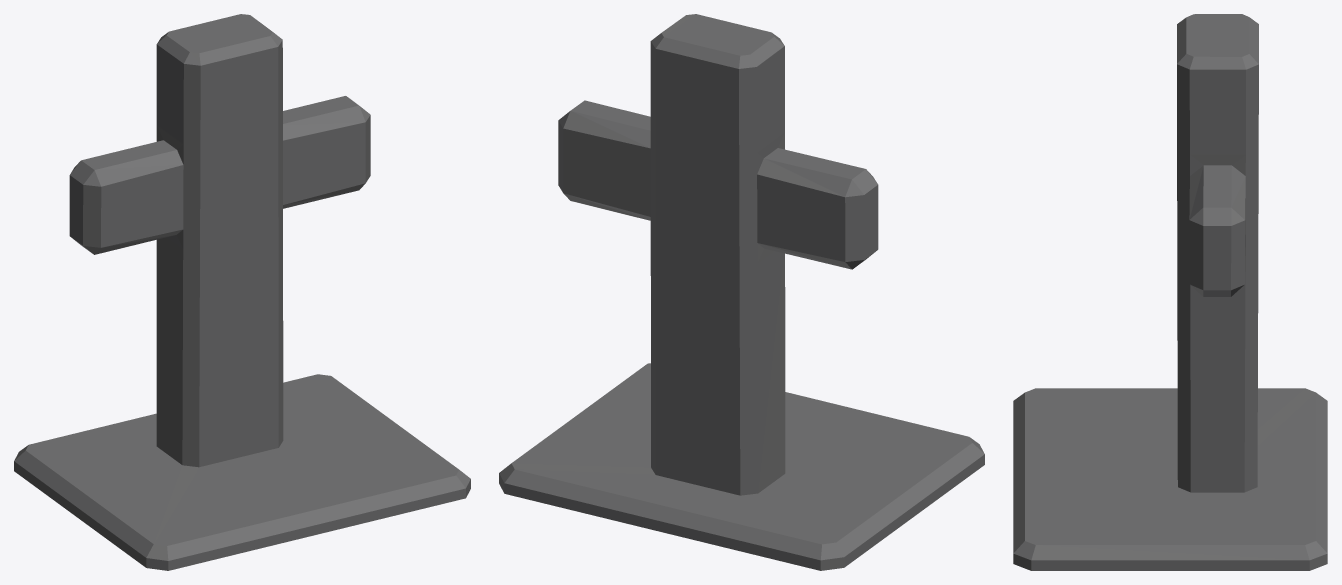
Rendered from Gravestone_2.glb.
3 renders of one model, left to right at view 1: azimuth 30°, elevation 25°; view 2: azimuth 150°, elevation 25°; view 3: azimuth 270°, elevation 25°, orthographic. The views are drawn at different scales.
Bounding box in the file's own units: 35.96 × 45.51 × 28.66.
Materials: 1 (1 with a texture image).
